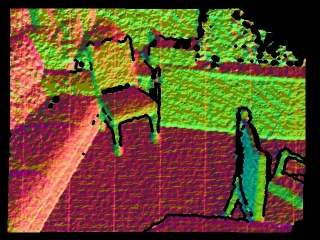station: (266, 148, 305, 211)
